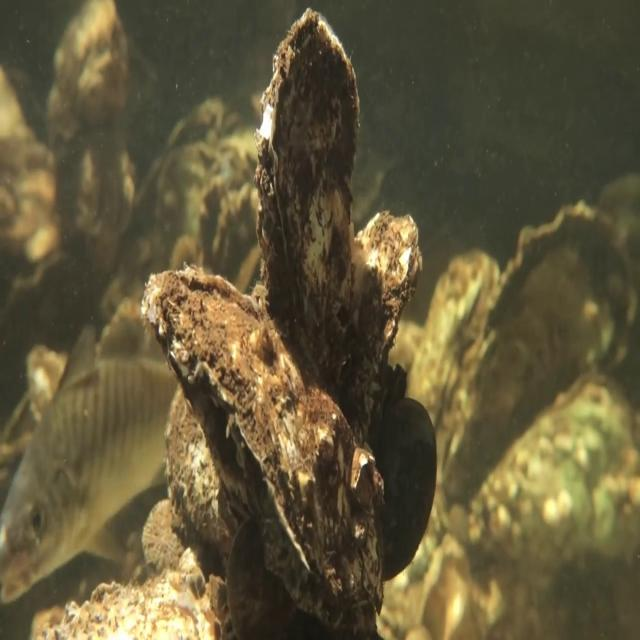Oyster-Closed: (140, 259, 389, 639), (249, 3, 364, 396), (341, 197, 429, 445), (408, 241, 502, 446), (151, 384, 241, 558)
Oyster-Indeterminate: (442, 201, 632, 502), (466, 366, 640, 585), (32, 556, 219, 637), (378, 390, 441, 583)
